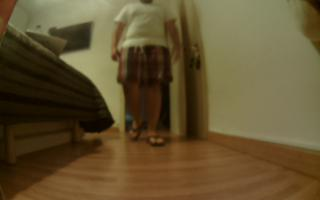person: (109, 1, 184, 145)
